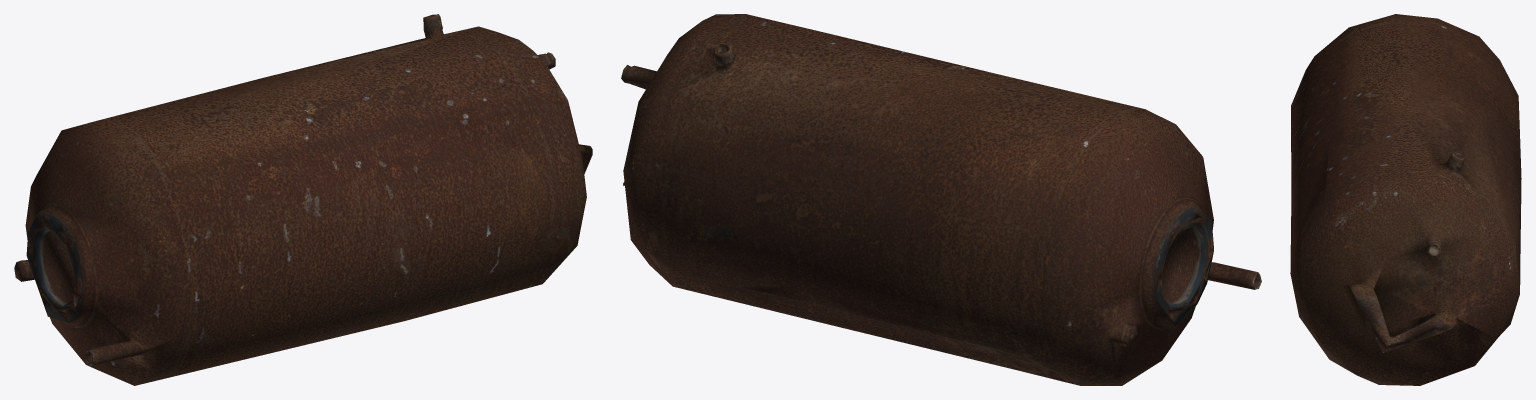
File: tank_metal.glb
The picture shows the model from 3 angles, left to right: view 1: azimuth 30°, elevation 25°; view 2: azimuth 150°, elevation 25°; view 3: azimuth 270°, elevation 25°; orthographic projection. The views are drawn at different scales.
Visible parts, largest first — view 1: xf3pbjy_LOD0_TIER3_000; view 2: xf3pbjy_LOD0_TIER3_000; view 3: xf3pbjy_LOD0_TIER3_000.
Boxes of the visible parts, x1,y1,x2,y2 form: xf3pbjy_LOD0_TIER3_000: (14,14,592,385); xf3pbjy_LOD0_TIER3_000: (621,14,1261,385); xf3pbjy_LOD0_TIER3_000: (1290,14,1521,385).
Size of the model in its own units: 0.7882 by 0.3595 by 0.3459.
1 material, 1 textured.
